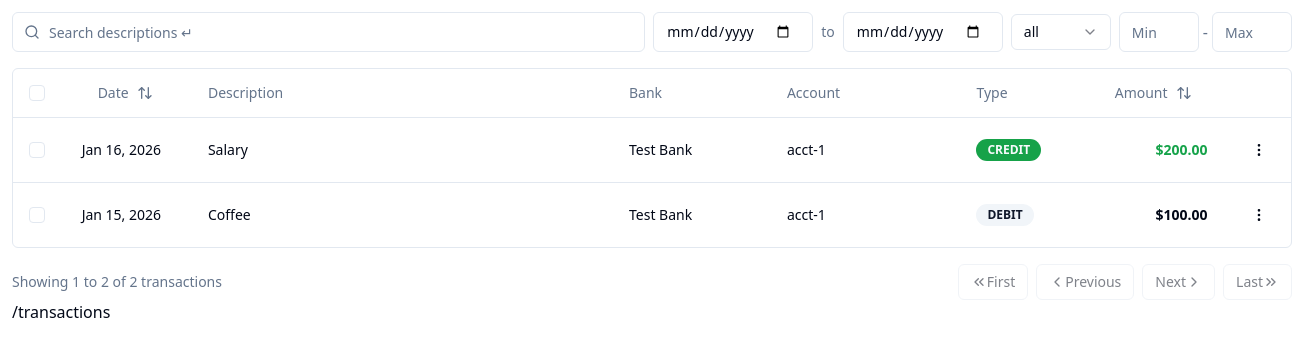
Test case: TransactionTable inline editing › closes a no-change edit without making an update request
Expected: the text "Salary" is shown, [208, 140, 248, 158]
Click the button named "open menu" in the row of "Jan 16, 2026".
click(1259, 150)  # box [1243, 134, 1275, 166]
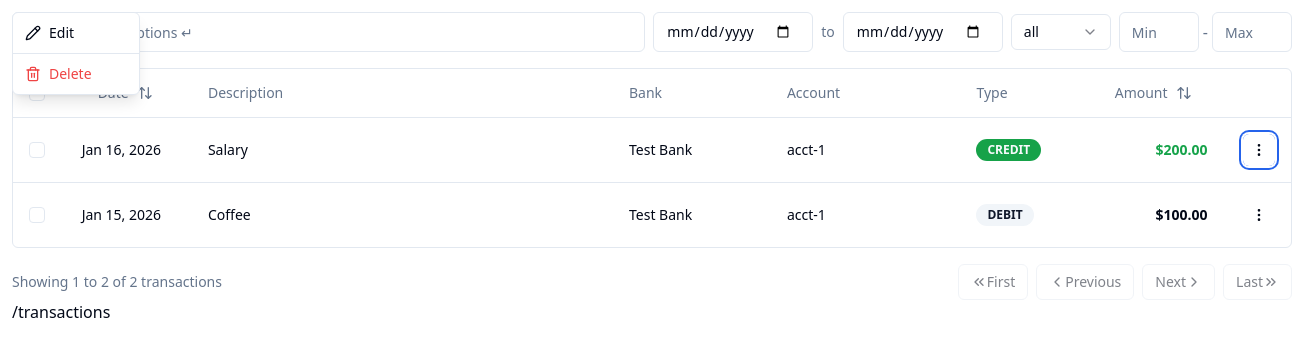
Click the menu item "Edit".
click(76, 33)  # box [17, 17, 135, 49]
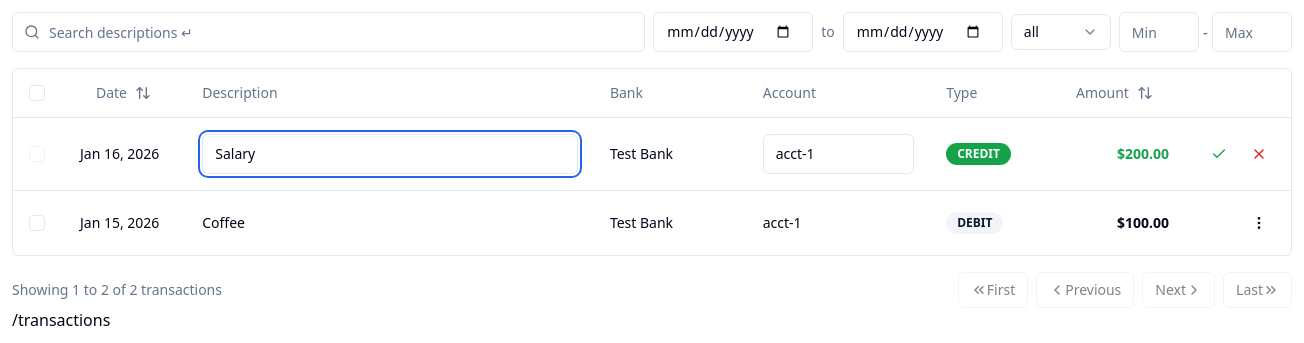
Click the button named "Save".
click(1219, 154)  # box [1203, 138, 1235, 170]
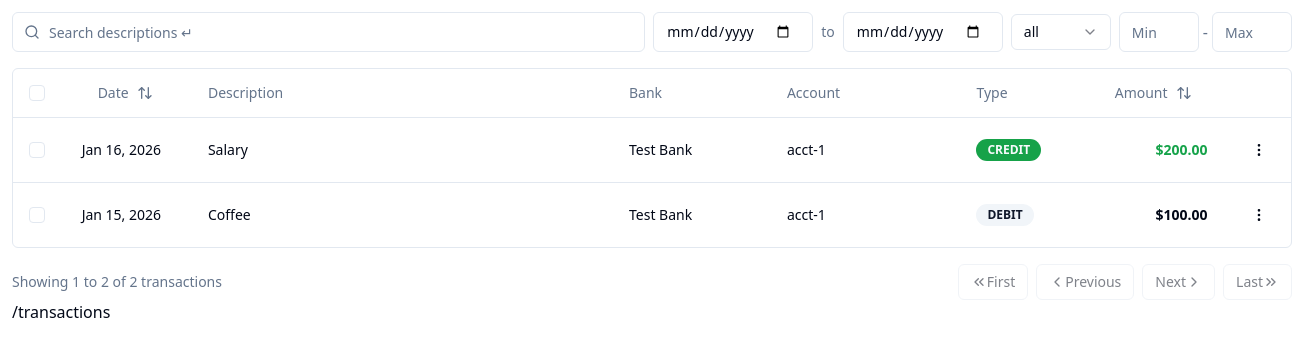
Expected: the button "Save" is not shown
Expected: the text "Salary" is shown, [208, 140, 248, 158]
